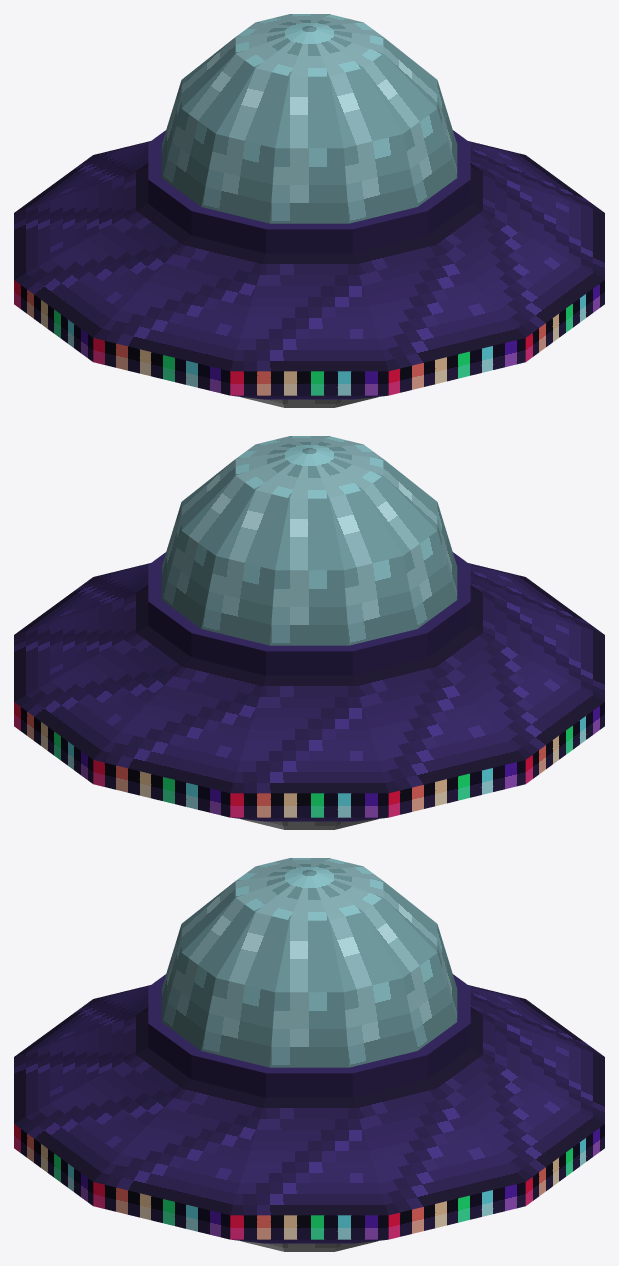
The model's file is UFO.fbx.
The picture shows the model from 3 angles, top to bottom: view 1: azimuth 30°, elevation 25°; view 2: azimuth 150°, elevation 25°; view 3: azimuth 270°, elevation 25°; orthographic projection.
Parts seen in each view (by area): view 1: Body, Dome; view 2: Body, Dome; view 3: Body, Dome.
Part boxes in pixels (bbox=[...]): Body: bbox=[14, 130, 604, 407]; Dome: bbox=[161, 14, 457, 223]; Body: bbox=[14, 552, 604, 829]; Dome: bbox=[161, 436, 457, 645]; Body: bbox=[14, 974, 604, 1251]; Dome: bbox=[161, 858, 457, 1067].
Size of the model in its own units: 275 by 175 by 275.
1 material, 1 textured.
